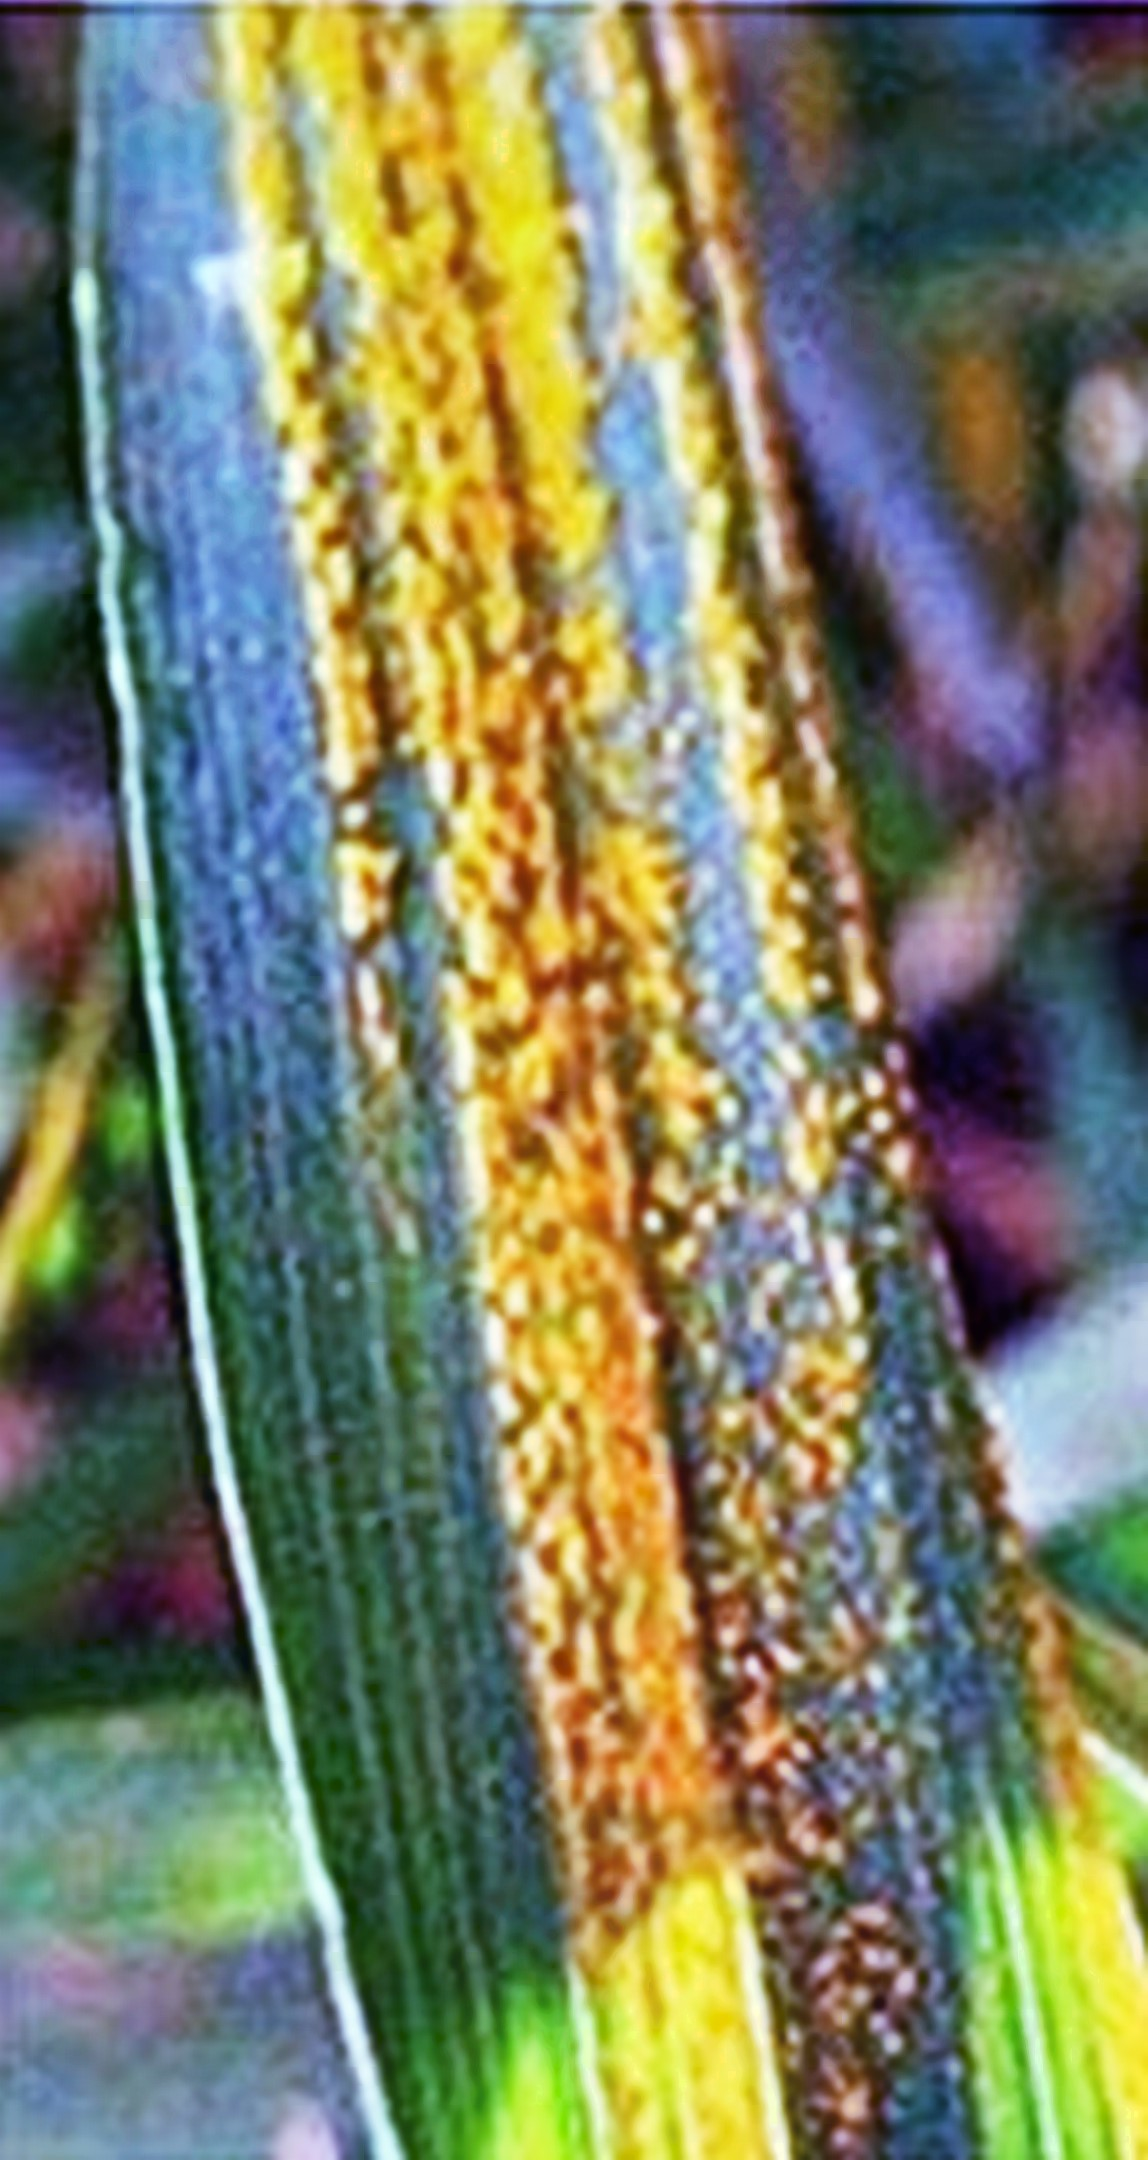Leaf Rust: (157, 129, 1059, 1796)
